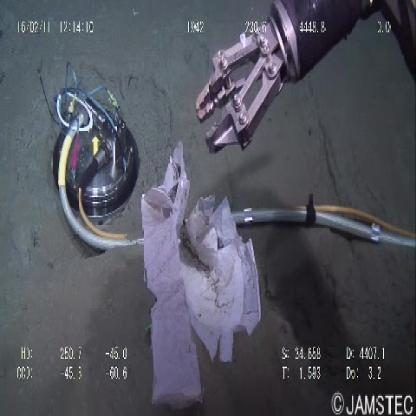Rov: (192, 1, 359, 165), (37, 55, 140, 256)
Rác: (138, 137, 262, 416)
